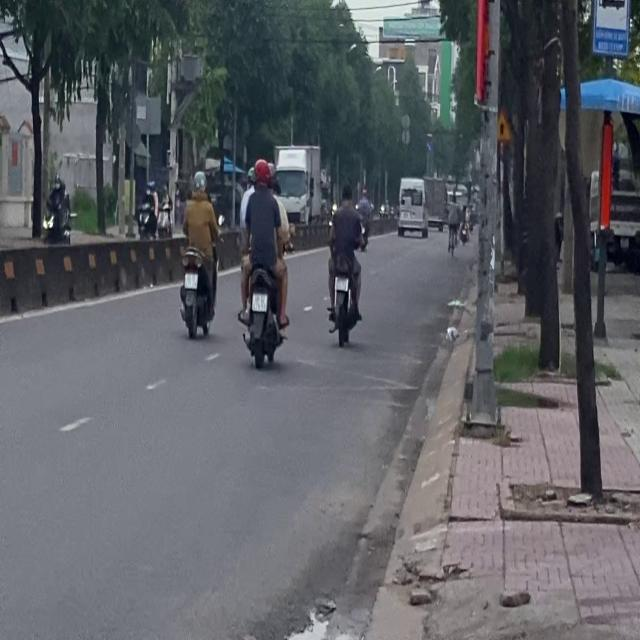helmet: (252, 157, 272, 188), (191, 170, 206, 196)
licenseplate: (236, 156, 290, 367), (178, 168, 218, 337)
nohelmet: (252, 292, 266, 310), (184, 273, 197, 288)
